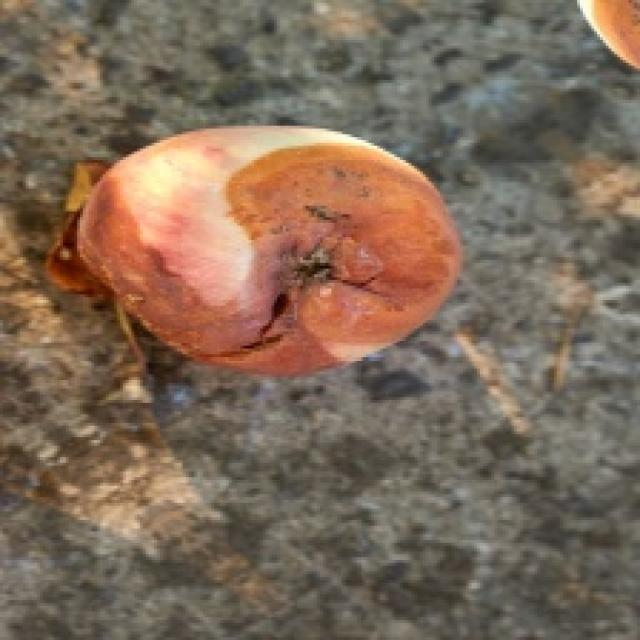rotten_apple: (89, 124, 458, 370)
